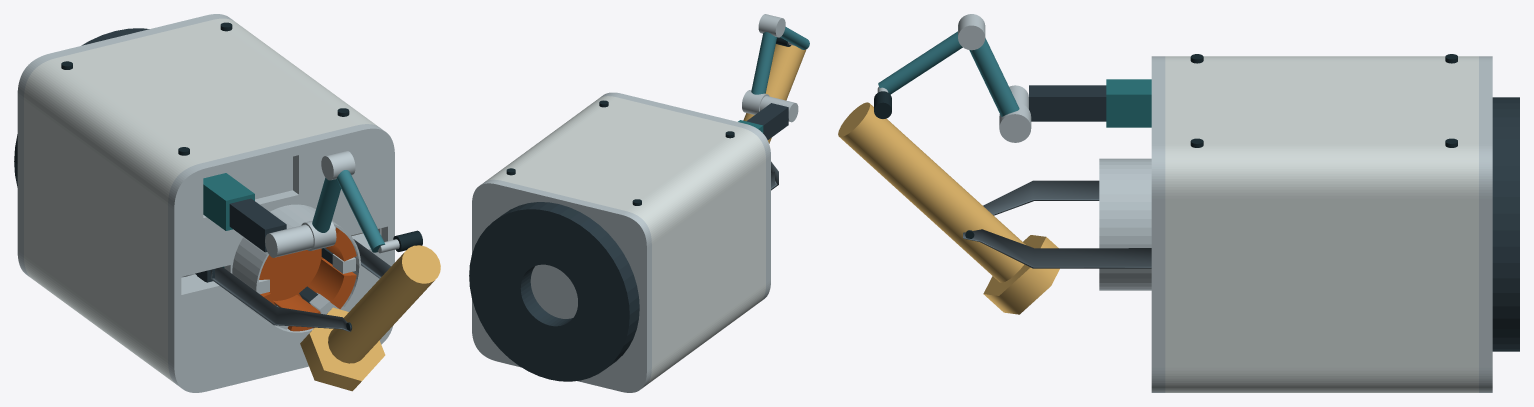
Rendered from m10-r09-gripper.glb.
3 views of the same model, side by side, from view 1: azimuth 30°, elevation 25°; view 2: azimuth 150°, elevation 25°; view 3: azimuth 270°, elevation 25° (orthographic). The views are drawn at different scales.
Visible parts, largest first — view 1: cover-sleeve, front-plate-with-ports, held-bolt, tweezer-blade (×2), rear-bulkhead, slim-nose-tube, feed-yoke, chuck-back-disc, thumb-drive-envelope, thumb-column, chuck-web-5, thumb-distal (+8 smaller); view 2: cover-sleeve, robot-adapter-ring, rear-bulkhead, front-plate-with-ports, held-bolt, thumb-proximal, thumb-column, thumb-joint-2, thumb-base-axle, thumb-joint-1, thumb-distal; view 3: cover-sleeve, held-bolt, robot-adapter-ring, slim-nose-tube, tweezer-blade (×2), front-plate-with-ports, rear-bulkhead, thumb-column, thumb-drive-envelope, thumb-proximal, thumb-distal, thumb-joint-2 (+1 smaller).
Boxes of the visible parts, bbox=[...] form: cover-sleeve: bbox=[24, 18, 381, 383]; front-plate-with-ports: bbox=[168, 124, 394, 392]; held-bolt: bbox=[300, 245, 440, 391]; tweezer-blade (×2): bbox=[210, 239, 390, 331]; rear-bulkhead: bbox=[17, 14, 233, 277]; slim-nose-tube: bbox=[232, 204, 360, 334]; feed-yoke: bbox=[181, 156, 381, 288]; chuck-back-disc: bbox=[269, 248, 323, 300]; thumb-drive-envelope: bbox=[203, 173, 254, 230]; thumb-column: bbox=[229, 198, 286, 252]; chuck-web-5: bbox=[309, 259, 356, 308]; thumb-distal: bbox=[336, 170, 385, 252]; cover-sleeve: bbox=[485, 96, 765, 385]; robot-adapter-ring: bbox=[469, 202, 639, 381]; rear-bulkhead: bbox=[472, 179, 651, 392]; front-plate-with-ports: bbox=[600, 92, 770, 301]; held-bolt: bbox=[743, 44, 806, 143]; thumb-proximal: bbox=[751, 32, 776, 94]; thumb-column: bbox=[747, 103, 788, 139]; thumb-joint-2: bbox=[758, 14, 785, 37]; thumb-base-axle: bbox=[760, 96, 798, 122]; thumb-joint-1: bbox=[742, 90, 769, 114]; thumb-distal: bbox=[780, 27, 809, 49]; cover-sleeve: bbox=[1165, 56, 1478, 392]; held-bolt: bbox=[838, 102, 1059, 314]; robot-adapter-ring: bbox=[1492, 97, 1519, 351]; slim-nose-tube: bbox=[1099, 158, 1151, 290]; tweezer-blade (×2): bbox=[963, 180, 1151, 268]; front-plate-with-ports: bbox=[1151, 56, 1165, 392]; rear-bulkhead: bbox=[1479, 56, 1492, 392]; thumb-column: bbox=[1029, 85, 1106, 121]; thumb-drive-envelope: bbox=[1106, 79, 1151, 127]; thumb-proximal: bbox=[969, 38, 1019, 116]; thumb-distal: bbox=[878, 31, 962, 94]; thumb-joint-2: bbox=[958, 14, 985, 50].
Bounding box in the file's own units: 0.061 × 0.0755 × 0.15.
